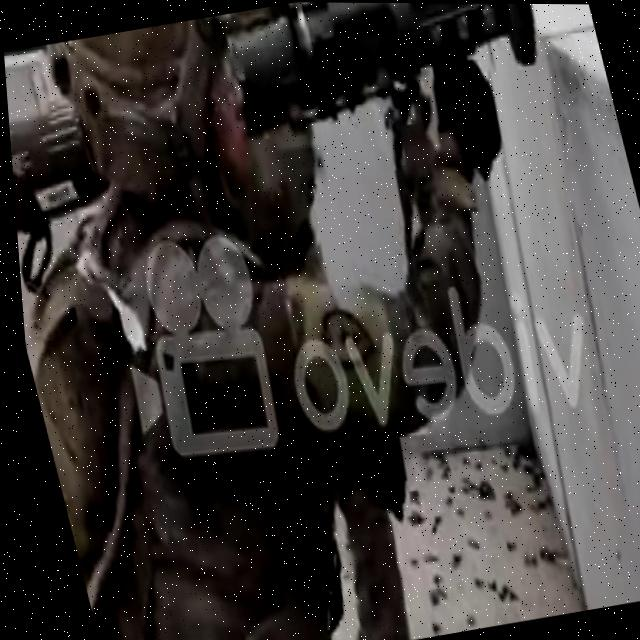rocket: (225, 1, 557, 138)
